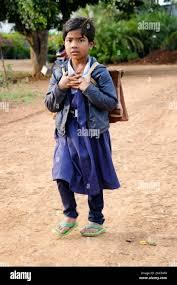Human: (48, 16, 128, 242)
